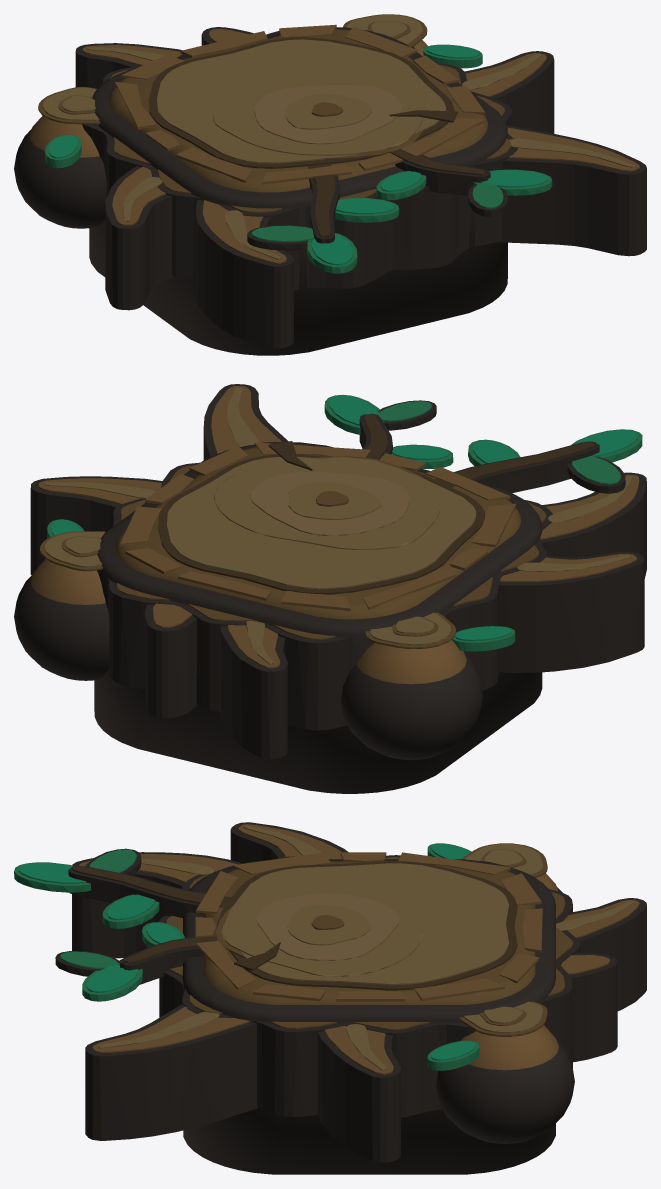
The model's file is body_toco.fbx.
3 renders of one model, top to bottom at view 1: azimuth 30°, elevation 25°; view 2: azimuth 150°, elevation 25°; view 3: azimuth 270°, elevation 25°, orthographic. The views are drawn at different scales.
Parts seen in each view (by area): view 1: body_toco_corpo, body_toco_mao_esq, body_toco_mao; view 2: body_toco_corpo, body_toco_mao_esq, body_toco_mao; view 3: body_toco_corpo, body_toco_mao, body_toco_mao_esq.
Part boxes in pixels (box(x1,y1,x2,y2)): body_toco_corpo: box(75, 24, 646, 355); body_toco_mao_esq: box(14, 87, 106, 228); body_toco_mao: box(343, 14, 482, 68); body_toco_corpo: box(30, 384, 646, 793); body_toco_mao_esq: box(340, 612, 515, 760); body_toco_mao: box(14, 519, 109, 680); body_toco_corpo: box(14, 822, 646, 1174); body_toco_mao: box(427, 1001, 574, 1143); body_toco_mao_esq: box(427, 843, 562, 892).
Size of the model in its own units: 6.47 by 2.11 by 6.77.
Materials: 1 (1 with a texture image).
